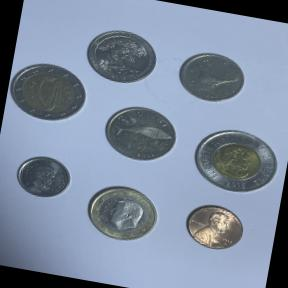1 Euro-B: (78, 178, 170, 253)
2 Euro-B: (3, 54, 93, 129)
Canada-10cent-B: (11, 149, 78, 207)
Canada-2Dollar-B: (184, 117, 288, 206)
Croatia-2Kune-B: (96, 96, 186, 171)
US-1cent-B: (178, 197, 253, 258)
US-25cent-B: (79, 21, 166, 91)
